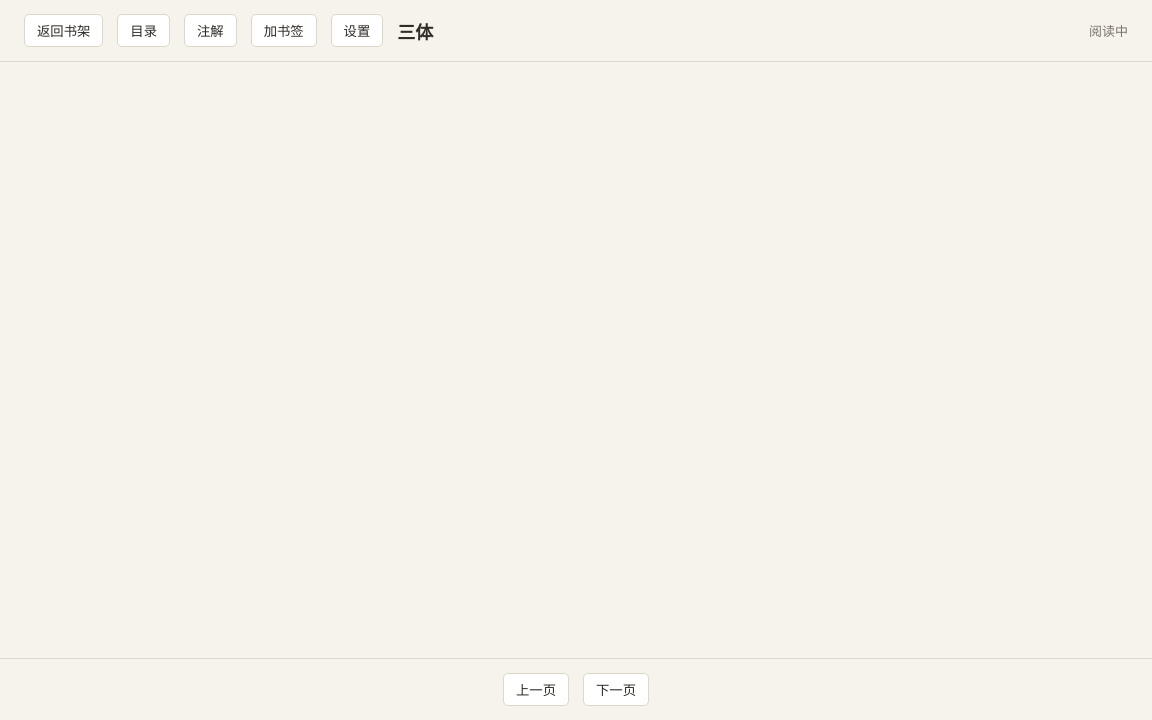
Test: EpubReaderView › 翻页失败时展示错误但保留阅读状态
Click the button "下一页".
click(616, 690)  # box [583,673,649,706]
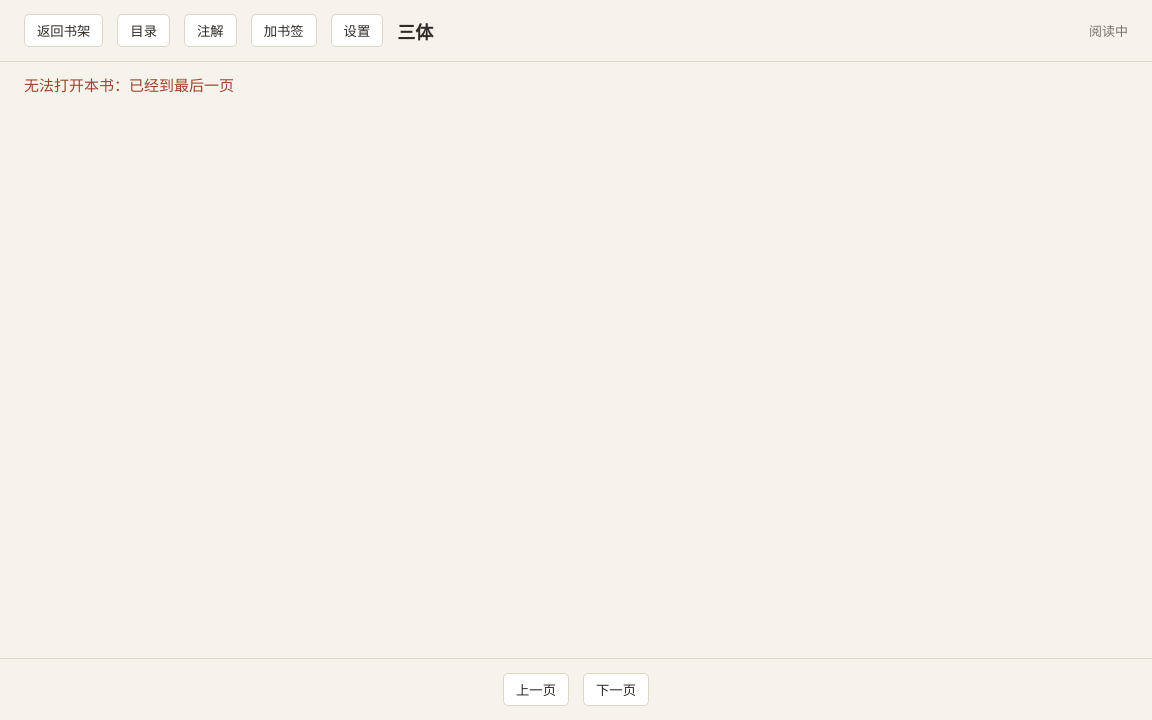
Check: the text "阅读中" is shown, box [1089,21,1128,40]
Check: the text "无法打开本书：已经到最后一页" is shown, box [24,75,234,95]
